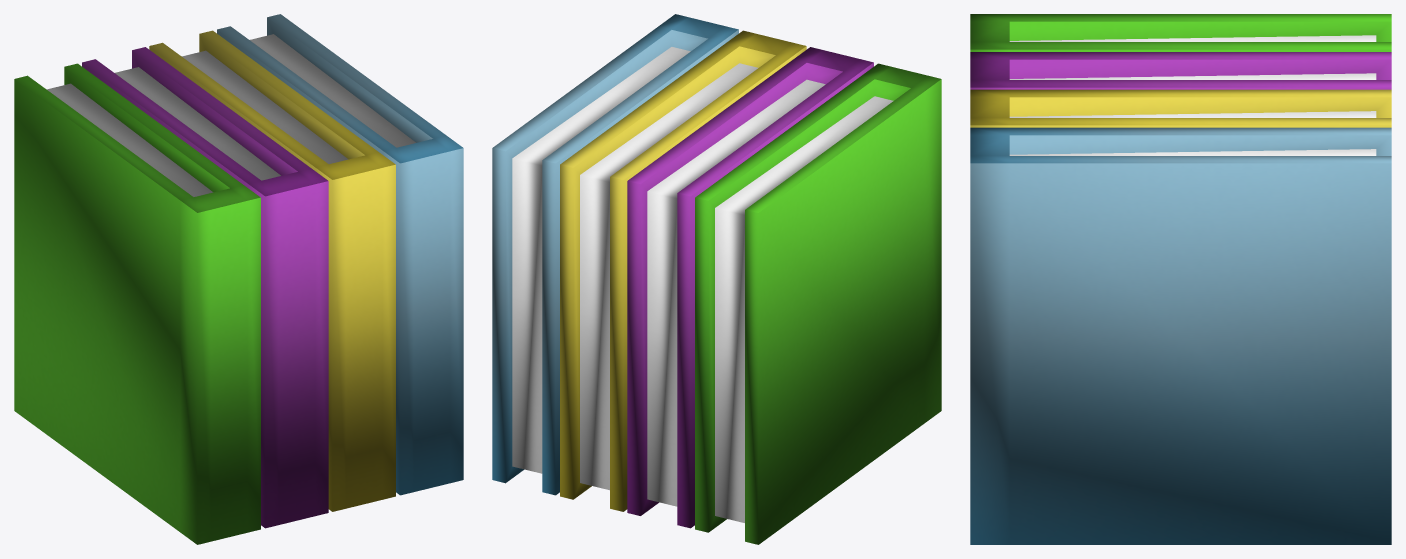
The model's file is Props_Book_01.fbx.
3 views of the same model, side by side, from view 1: azimuth 30°, elevation 25°; view 2: azimuth 150°, elevation 25°; view 3: azimuth 270°, elevation 25° (orthographic). The views are drawn at different scales.
Visible parts, largest first — view 1: Props_Book_01; view 2: Props_Book_01; view 3: Props_Book_01.
Boxes of the visible parts, x1,y1,x2,y2 form: Props_Book_01: (14, 14, 463, 544); Props_Book_01: (492, 14, 941, 544); Props_Book_01: (970, 14, 1391, 544).
Size of the model in its own units: 42.48 by 50.6 by 50.6.
